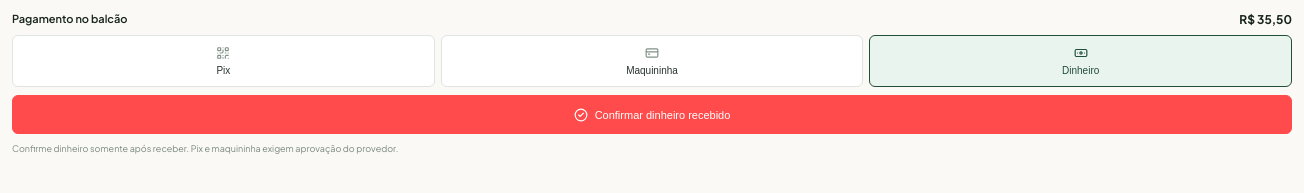
Test case: PickupPaymentPanel compacto › não confirma dinheiro quando o servidor rejeita e não transforma erro em pago
This screenshot has width=1304, height=193.
Click the button "Confirmar dinheiro recebido" at point(652, 114), box [12,95,1292,134]
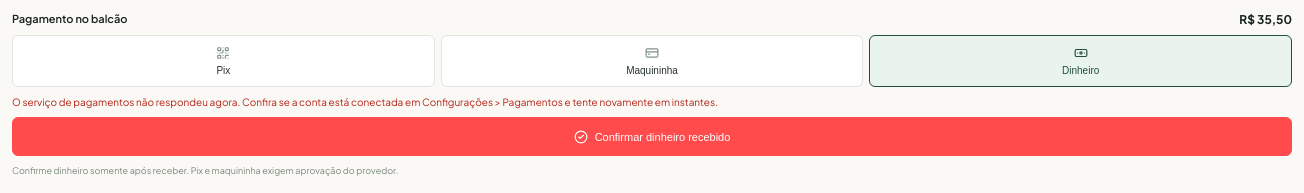
Check: the message is shown, box [12,96,718,108]
